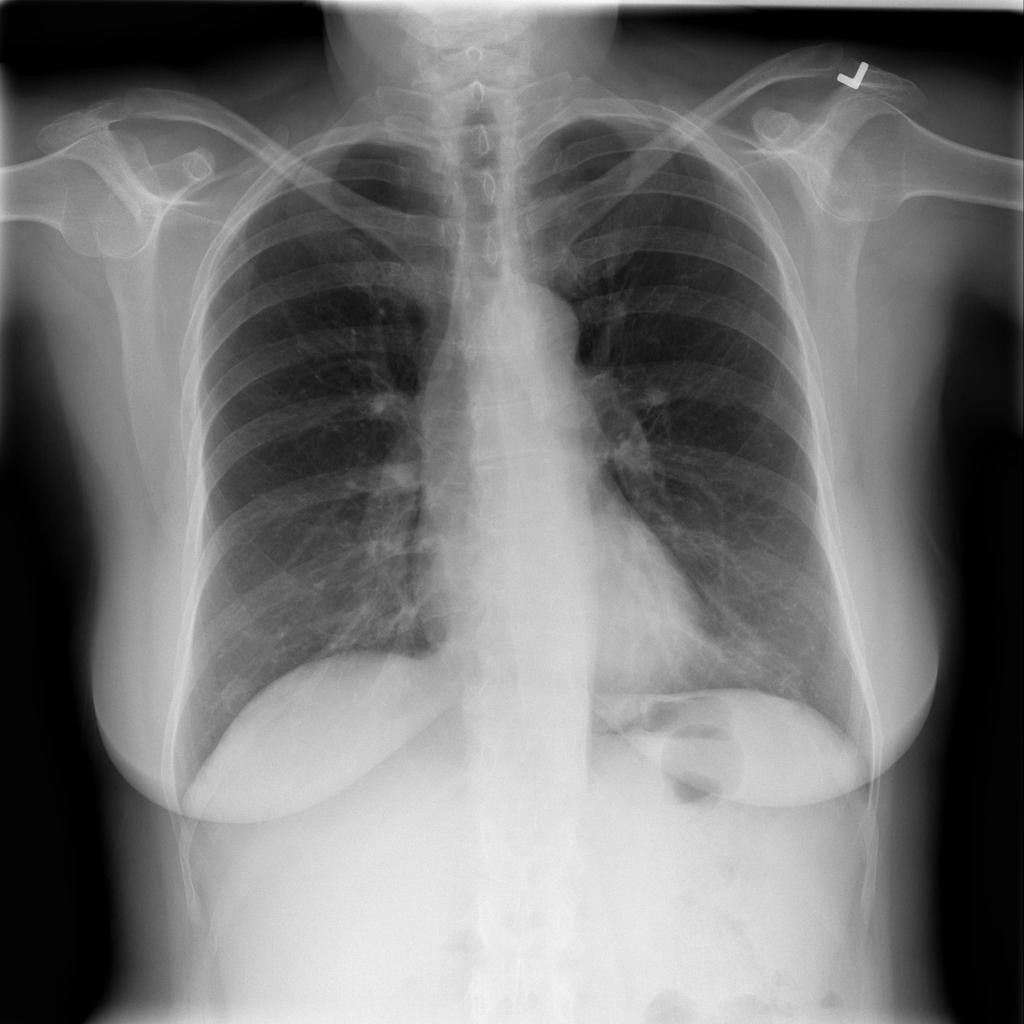nodule: (203, 659, 275, 728)
